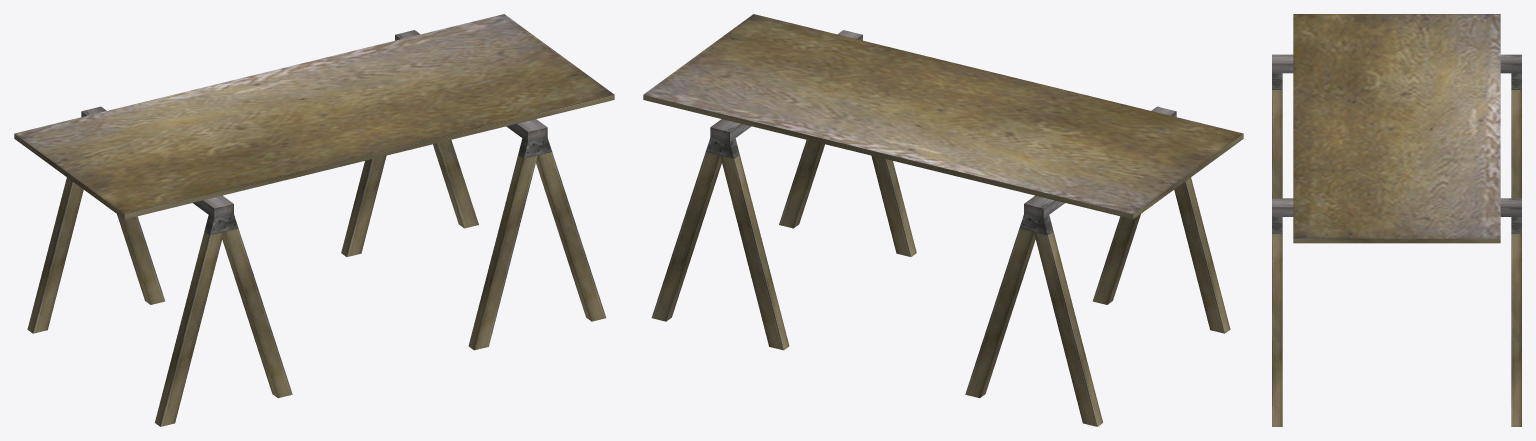
Rendered from saw_horse.fbx.
3 renders of one model, left to right at view 1: azimuth 30°, elevation 25°; view 2: azimuth 150°, elevation 25°; view 3: azimuth 270°, elevation 25°, orthographic. The views are drawn at different scales.
Parts seen in each view (by area): view 1: mesh_0; view 2: mesh_0; view 3: mesh_0.
Boxes of the visible parts, bbox=[...] form: mesh_0: bbox=[14, 14, 614, 426]; mesh_0: bbox=[643, 14, 1243, 426]; mesh_0: bbox=[1272, 14, 1521, 426].
Size of the model in its own units: 250 by 103 by 118.
Materials: 1 (1 with a texture image).
